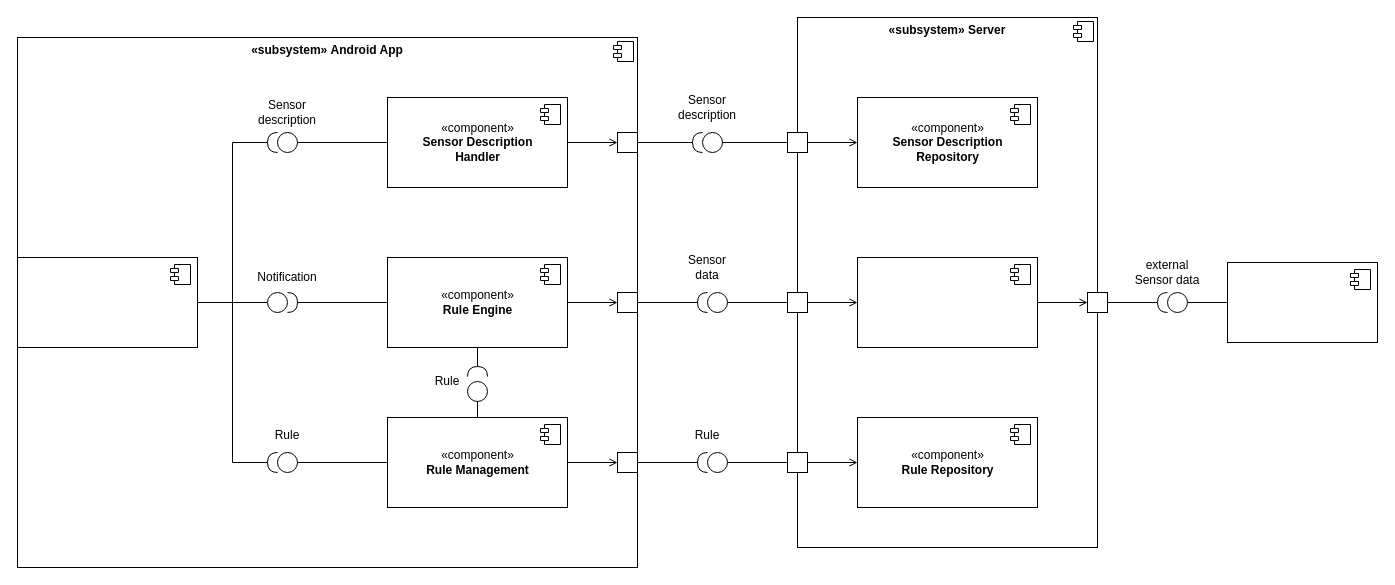
Some shapes in this 1395 by 585 pixel diagram are drawn without their labels. The shapes that lost their labels are listed below. From the top down, each one's centre as x and y in pixels, then its label:
At pixel 107 302: "«UI» Android GUI".
At pixel 947 302: "«component» Sensor Data Handler".
At pixel 1302 302: "«service» LoRaPark API".
